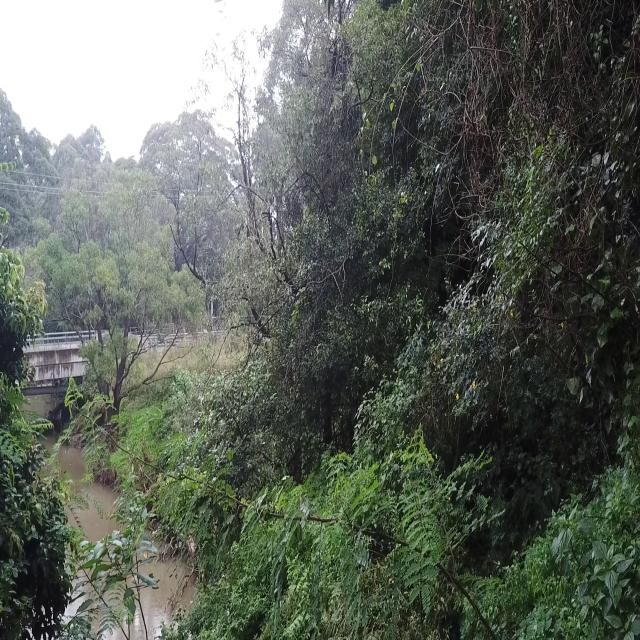Mysore-Thorn-Weed: (97, 440, 504, 634)
